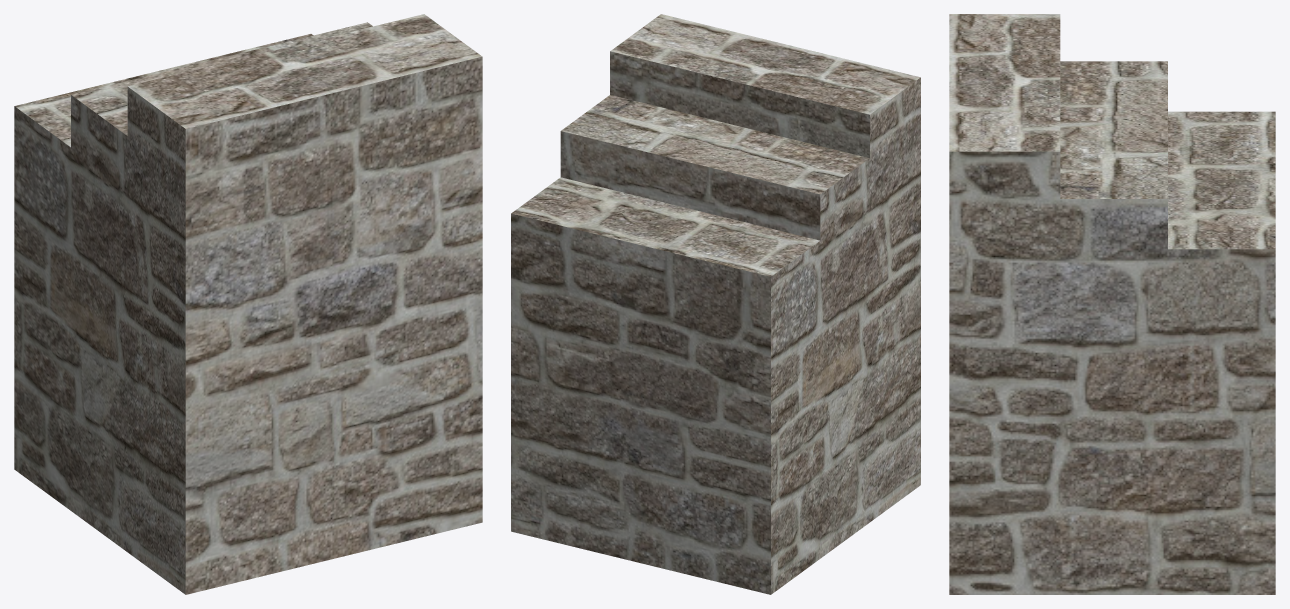
The model's file is escalera03.obj.
The picture shows the model from 3 angles, left to right: view 1: azimuth 30°, elevation 25°; view 2: azimuth 150°, elevation 25°; view 3: azimuth 270°, elevation 25°; orthographic projection. The views are drawn at different scales.
Size of the model in its own units: 1 by 1.5 by 1.
